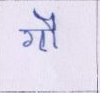ai_matra: (33, 9, 59, 29)
